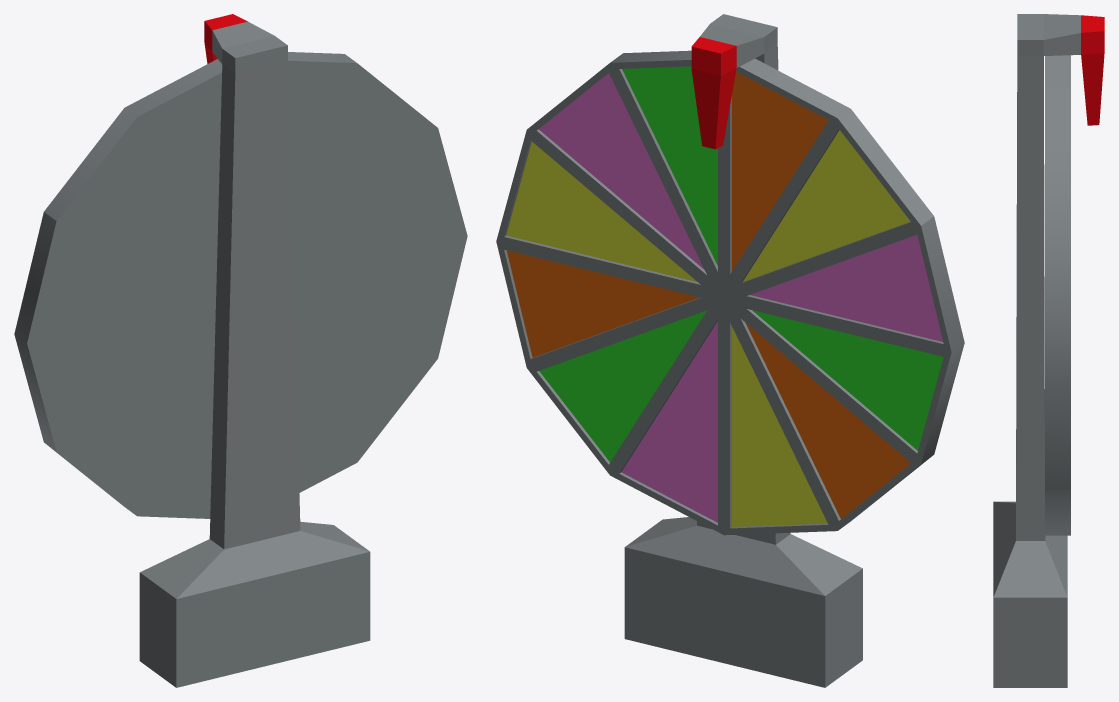
The model's file is Whell1.fbx.
3 renders of one model, left to right at view 1: azimuth 30°, elevation 25°; view 2: azimuth 150°, elevation 25°; view 3: azimuth 270°, elevation 25°, orthographic. The views are drawn at different scales.
Parts seen in each view (by area): view 1: Whell.001, Stand.001; view 2: Whell.001, Stand.001; view 3: Stand.001, Whell.001.
Part boxes in pixels (x1,y1,x2,y2): Whell.001: (14, 52, 467, 518); Stand.001: (139, 14, 370, 687); Whell.001: (496, 50, 964, 535); Stand.001: (624, 14, 862, 687); Stand.001: (993, 14, 1104, 687); Whell.001: (1045, 55, 1070, 535).
Size of the model in its own units: 60.1 by 79.08 by 12.93.
